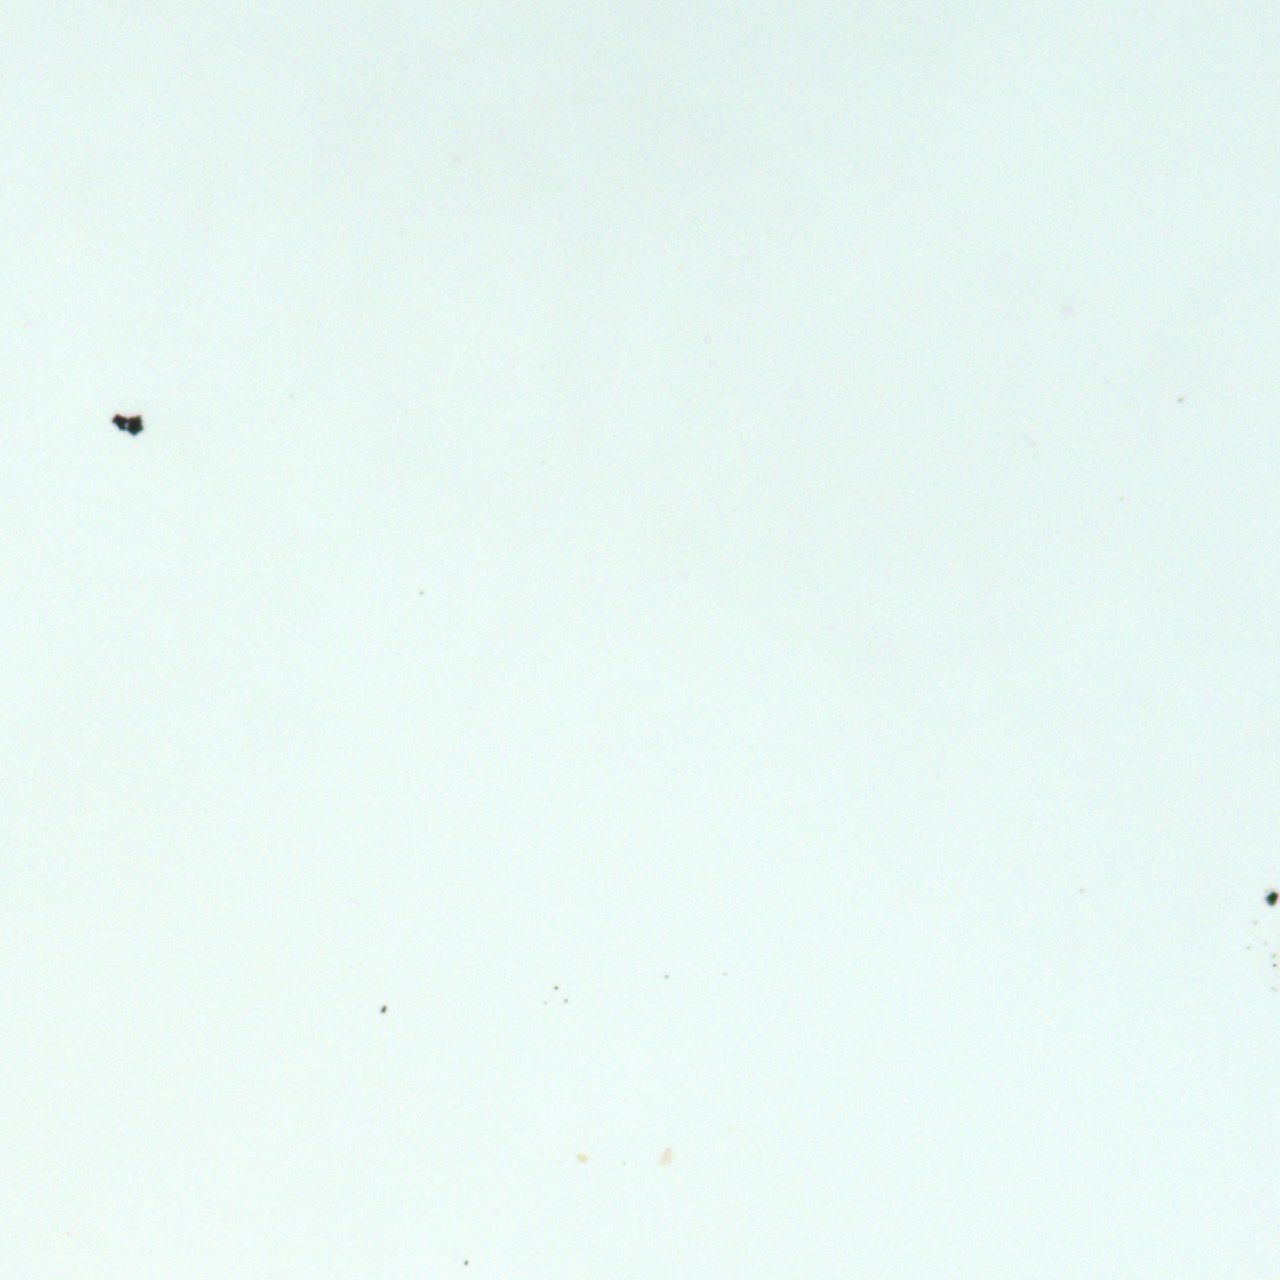dust: (109, 411, 148, 435), (1262, 886, 1280, 906), (658, 1146, 674, 1165), (578, 1152, 590, 1162), (379, 1005, 389, 1013), (463, 1259, 470, 1268), (662, 973, 669, 981), (564, 996, 568, 1003), (553, 985, 558, 988)
